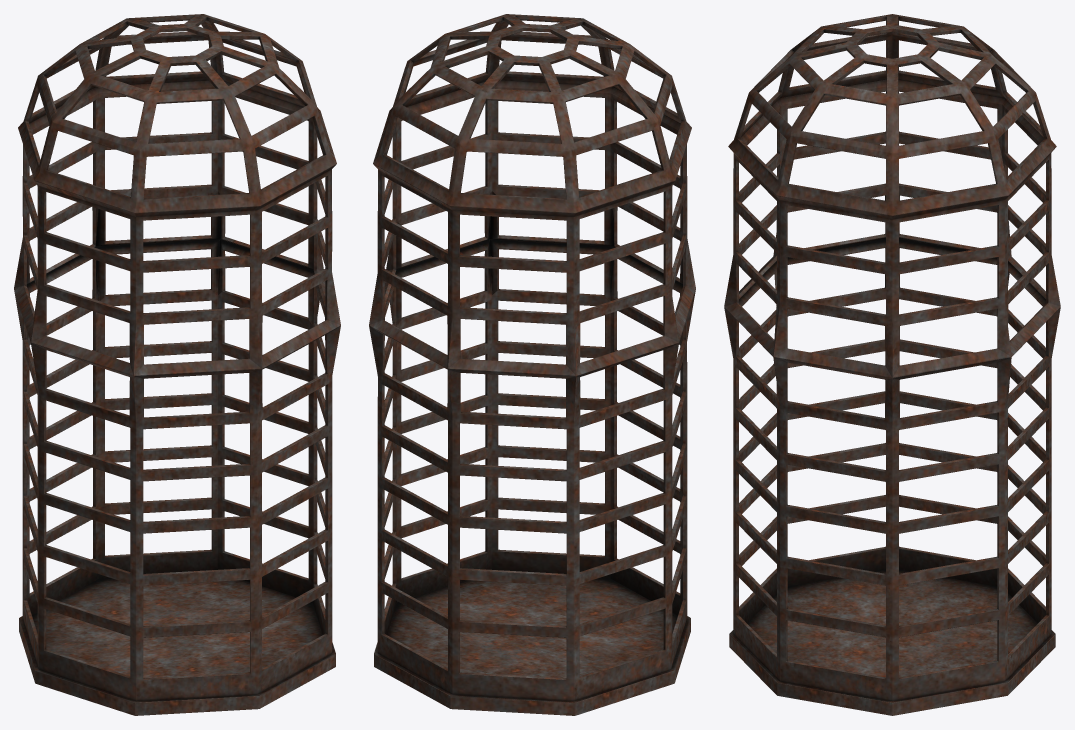
The model's file is rusty_dungeon_cage.glb.
3 views of the same model, side by side, from view 1: azimuth 30°, elevation 25°; view 2: azimuth 150°, elevation 25°; view 3: azimuth 270°, elevation 25° (orthographic).
Parts seen in each view (by area): view 1: TotallyRustyCage_0; view 2: TotallyRustyCage_0; view 3: TotallyRustyCage_0.
Boxes of the visible parts, <box> form: TotallyRustyCage_0: <box>14,14,340,715</box>; TotallyRustyCage_0: <box>369,14,695,715</box>; TotallyRustyCage_0: <box>724,14,1060,715</box>.
Bounding box in the file's own units: 1.01 × 2 × 1.01.
1 material, 1 textured.
